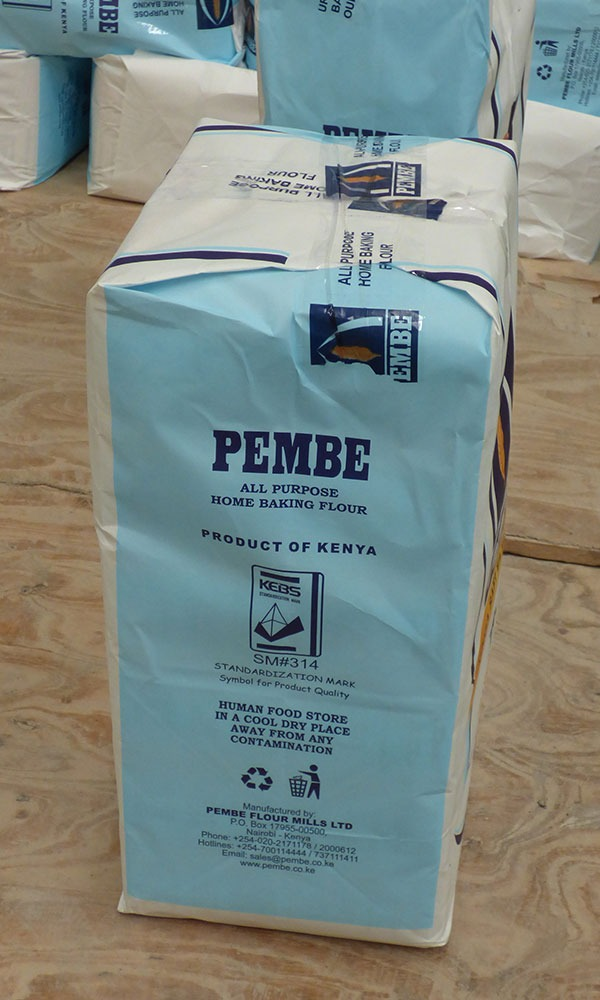wheat_flour_blue_label: (88, 120, 493, 947)
